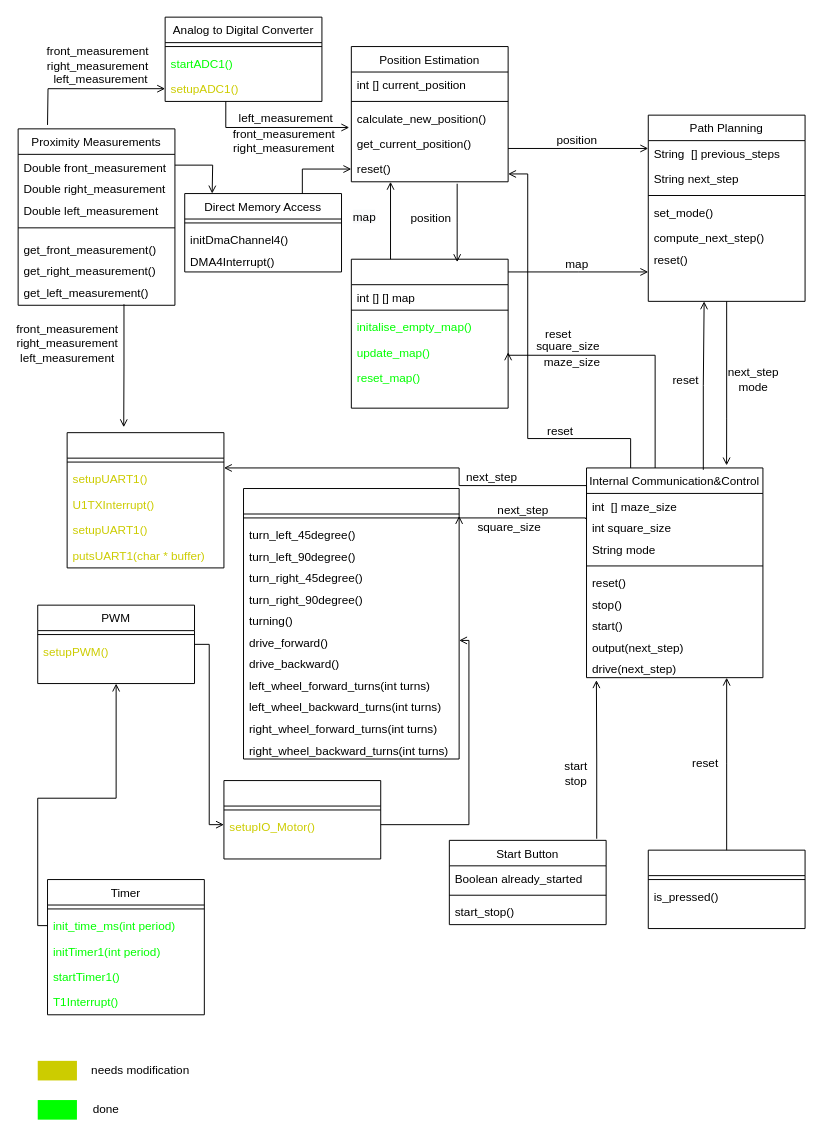
Some shapes in this 823 by 1142 pixel diagram are drawn without their labels. The box of each missing label's shape, as (x1, y1, x2, y2) in pixels:
IOconfig: (223, 780, 381, 859)
Mapping: (350, 258, 508, 408)
Motor Control: (243, 488, 459, 759)
Reset Button: (647, 849, 805, 929)
serialComms: (66, 432, 224, 568)
